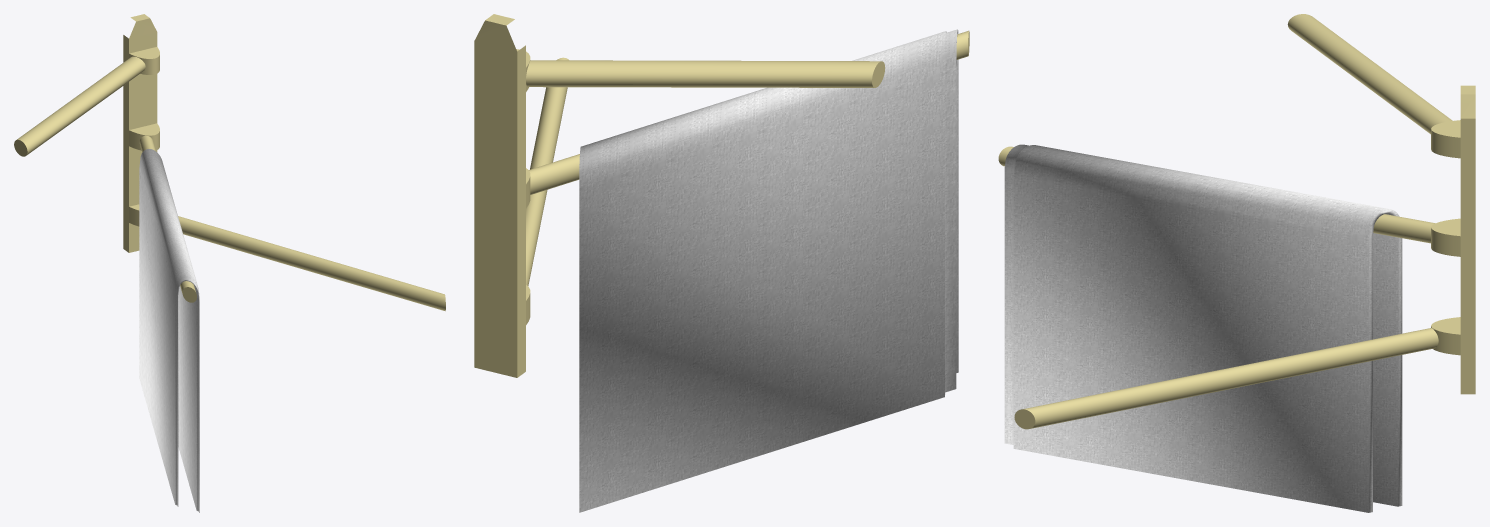
The model's file is sh-contrib-towel-rack.glb.
The picture shows the model from 3 angles, left to right: view 1: azimuth 30°, elevation 25°; view 2: azimuth 150°, elevation 25°; view 3: azimuth 270°, elevation 25°; orthographic projection. The views are drawn at different scales.
Parts seen in each view (by area): view 1: 5_5, 6_6; view 2: 5_5, 6_6; view 3: 5_5, 6_6.
Part boxes in pixels (x1=…): 5_5: x1=139, y1=149, x2=199, y2=512; 6_6: x1=14, y1=14, x2=445, y2=311; 5_5: x1=579, y1=29, x2=958, y2=512; 6_6: x1=474, y1=14, x2=969, y2=377; 5_5: x1=1004, y1=144, x2=1402, y2=512; 6_6: x1=998, y1=14, x2=1475, y2=429.
Size of the model in its own units: 1 by 1 by 1.
2 materials, 1 textured.
